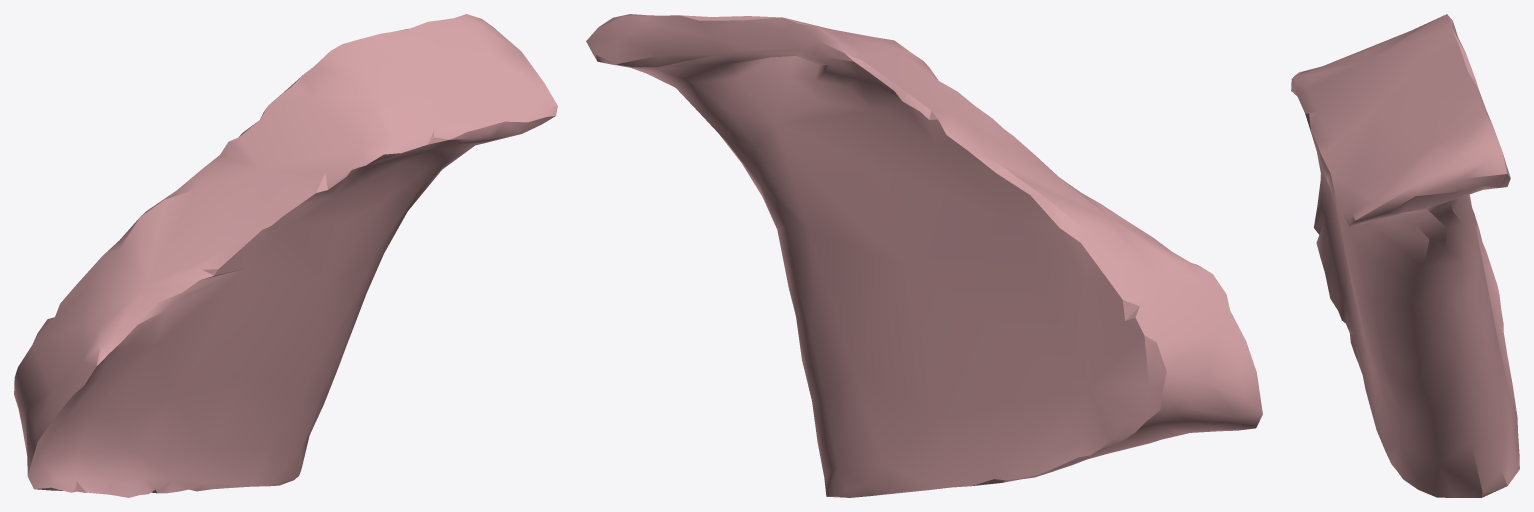
The model's file is fma77749-r_mm2593m.glb.
3 views of the same model, side by side, from view 1: azimuth 30°, elevation 25°; view 2: azimuth 150°, elevation 25°; view 3: azimuth 270°, elevation 25° (orthographic). The views are drawn at different scales.
Visible parts, largest first — view 1: FMA77749-R_MM2593M; view 2: FMA77749-R_MM2593M; view 3: FMA77749-R_MM2593M.
Part boxes in pixels (x1=…): FMA77749-R_MM2593M: x1=14, y1=14, x2=557, y2=497; FMA77749-R_MM2593M: x1=586, y1=14, x2=1262, y2=497; FMA77749-R_MM2593M: x1=1291, y1=14, x2=1519, y2=497.
Size of the model in its own units: 0.00398 by 0.00287 by 0.00117.
